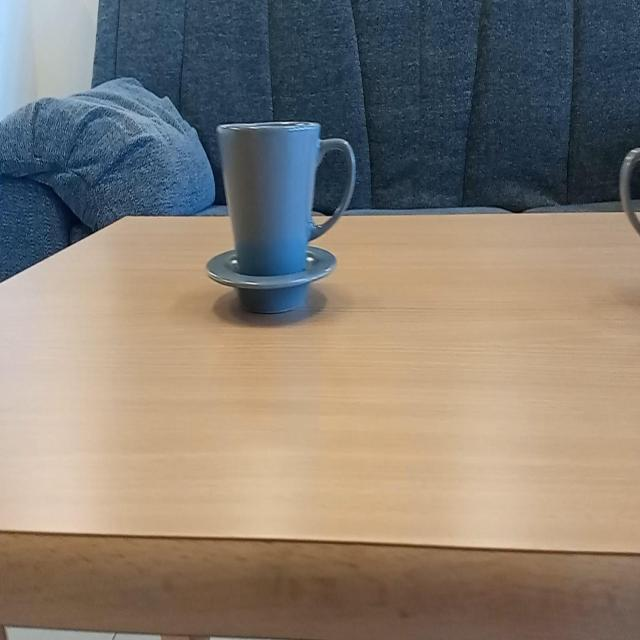cup: (205, 118, 360, 318)
